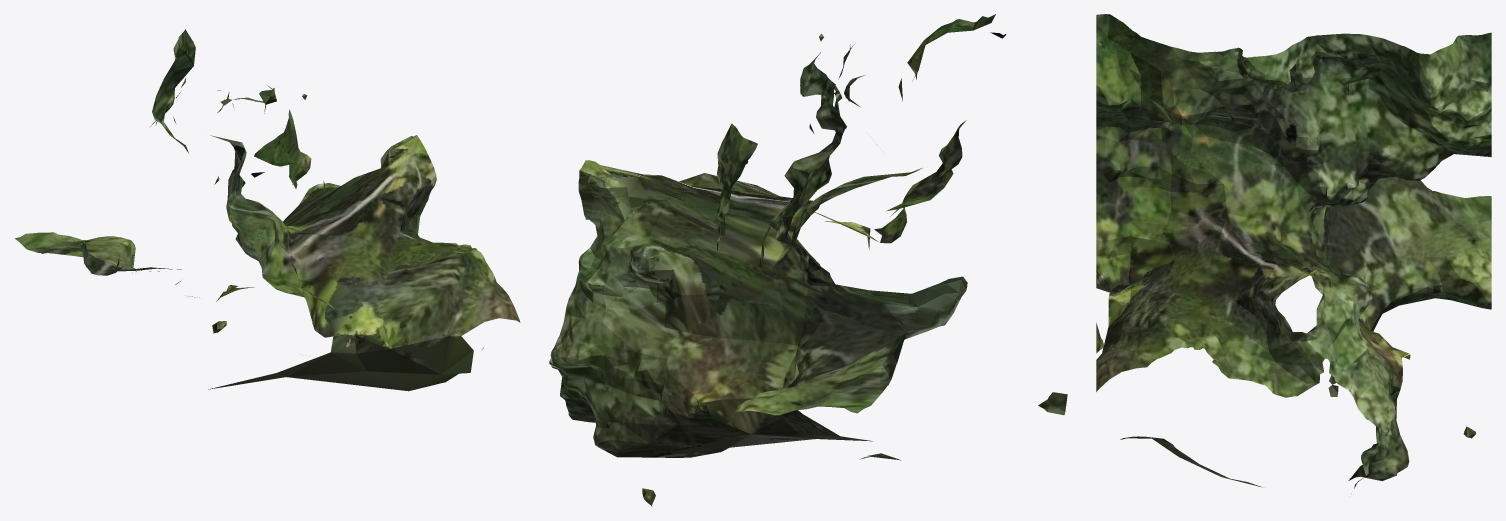
3 views of the same model, side by side, from view 1: azimuth 30°, elevation 25°; view 2: azimuth 150°, elevation 25°; view 3: azimuth 270°, elevation 25° (orthographic). The views are drawn at different scales.
Bounding box in the file's own units: 2.95 × 2.95 × 2.95.
Materials: 6 (6 with a texture image).
